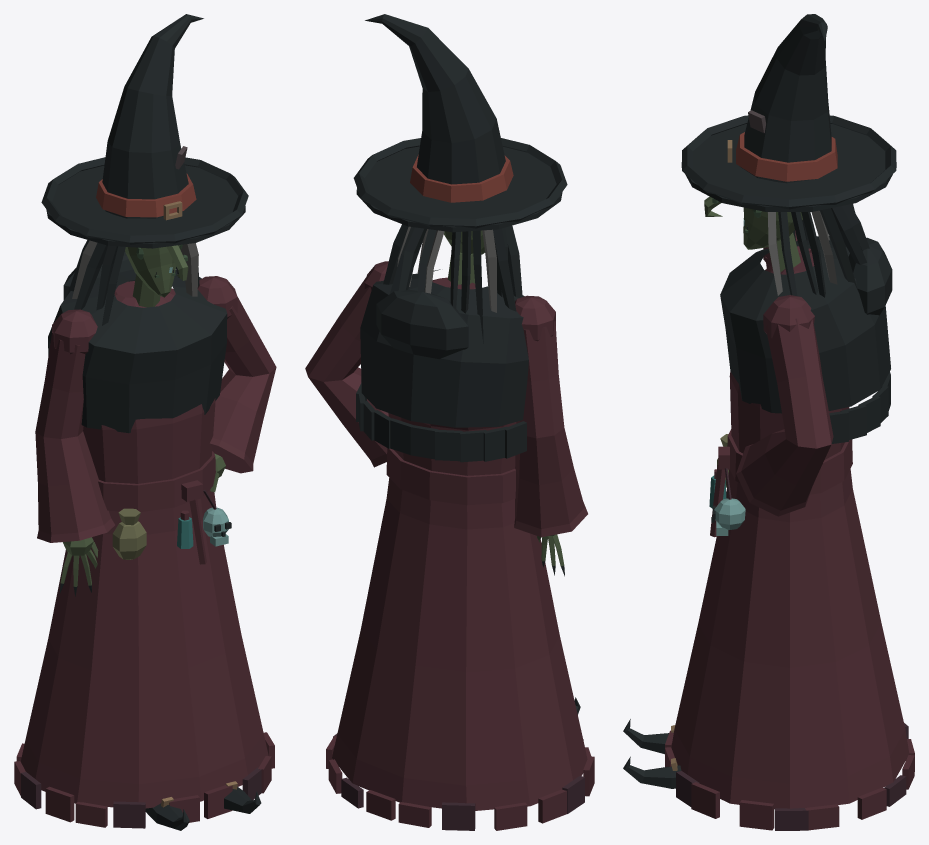
Rendered from vrajitoare_tortura_1.glb.
The picture shows the model from 3 angles, left to right: view 1: azimuth 30°, elevation 25°; view 2: azimuth 150°, elevation 25°; view 3: azimuth 270°, elevation 25°; orthographic projection. The views are drawn at different scales.
Parts seen in each view (by area): view 1: Corp, Cap, BratDrept; view 2: Corp, Cap, BratDrept; view 3: Corp, Cap.
Part boxes in pixels (box(x1,y1,x2,y2)): Corp: box(14, 251, 276, 830); Cap: box(41, 14, 248, 325); BratDrept: box(35, 309, 114, 596); Corp: box(305, 261, 594, 830); Cap: box(353, 14, 567, 343); BratDrept: box(514, 295, 587, 576); Corp: box(623, 236, 914, 830); Cap: box(681, 14, 896, 297).
Size of the model in its own units: 0.7737 by 2.16 by 0.7327.
